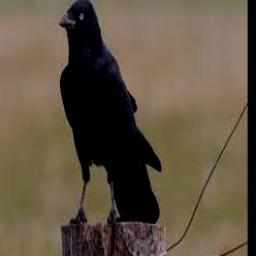Crow: (58, 0, 161, 223)
